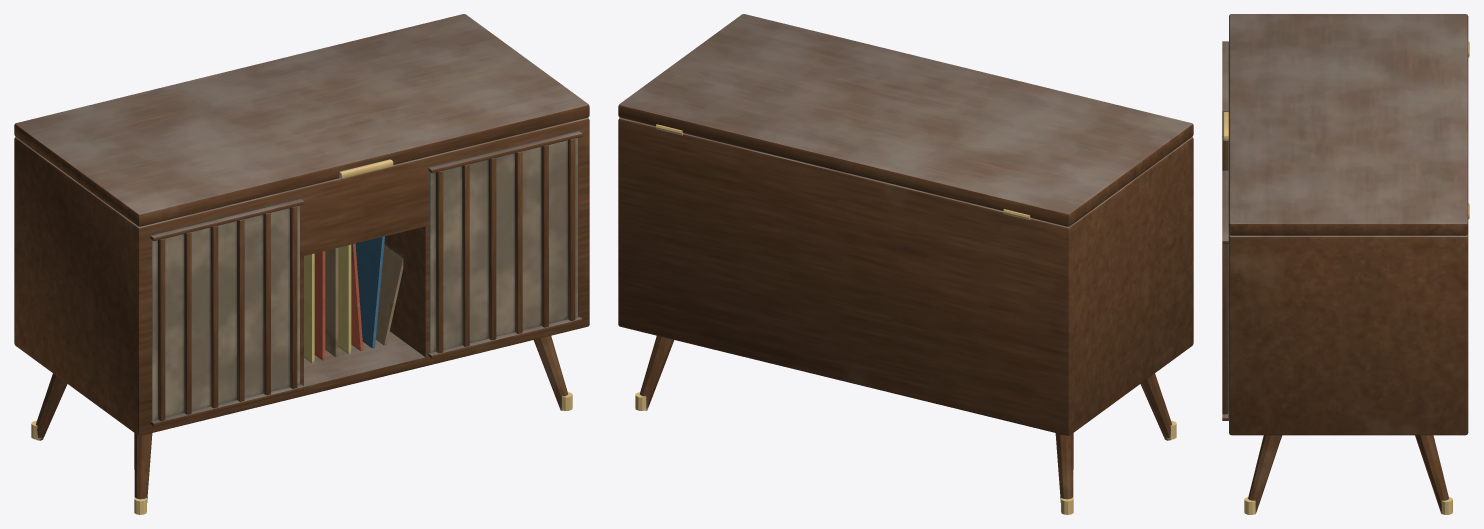
The model's file is vitrola.glb.
3 renders of one model, left to right at view 1: azimuth 30°, elevation 25°; view 2: azimuth 150°, elevation 25°; view 3: azimuth 270°, elevation 25°, orthographic. The views are drawn at different scales.
Parts seen in each view (by area): view 1: vitrola, tampa; view 2: vitrola, tampa; view 3: tampa, vitrola.
Part boxes in pixels (x1,y1,x2,y2): vitrola: (14,117,589,514); tampa: (14,14,589,226); vitrola: (618,117,1193,514); tampa: (618,14,1193,226); tampa: (1223,14,1468,235); vitrola: (1222,41,1469,514).
Bounding box in the file's own units: 1.04 × 0.684 × 0.517.
2 materials, 2 textured.
